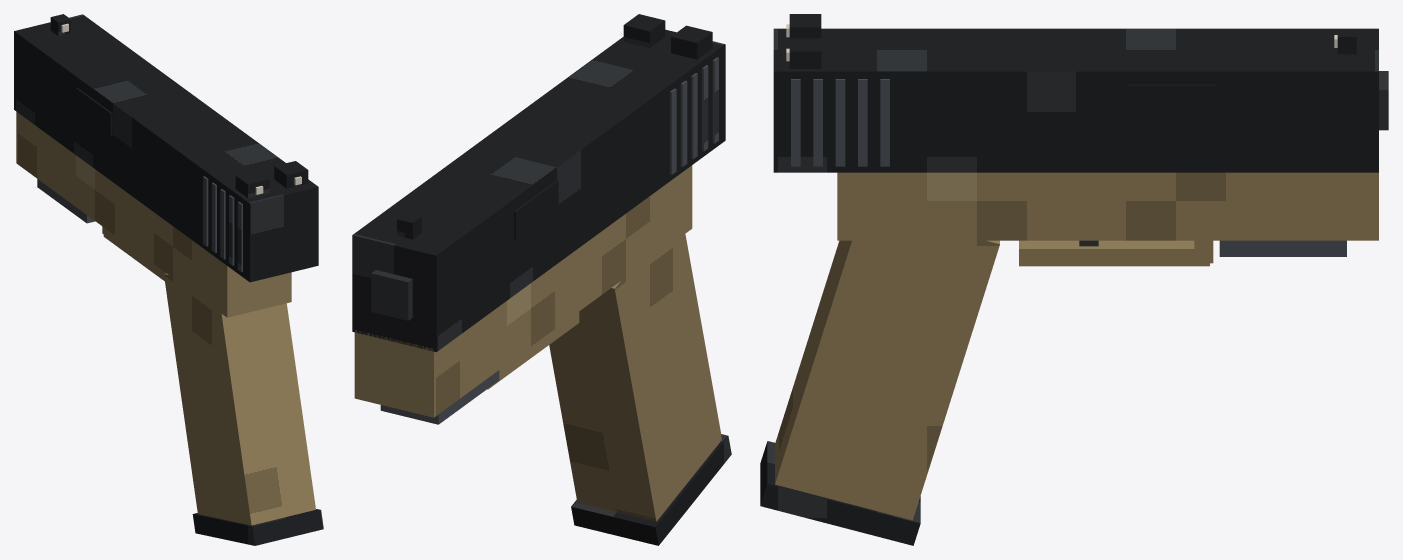
File: stinger.glb
3 renders of one model, left to right at view 1: azimuth 30°, elevation 25°; view 2: azimuth 150°, elevation 25°; view 3: azimuth 270°, elevation 25°, orthographic. The views are drawn at different scales.
Visible parts, largest first — view 1: Body, Mag; view 2: Body, Mag; view 3: Body, Mag.
Boxes of the visible parts, x1,y1,x2,y2 form: Body: (14, 14, 318, 525); Mag: (192, 509, 323, 545); Body: (352, 14, 725, 521); Mag: (571, 434, 731, 545); Body: (773, 14, 1388, 520); Mag: (760, 441, 920, 545).
Bounding box in the file's own units: 0.0335 × 0.1702 × 0.1971.
Materials: 6 (6 with a texture image).
